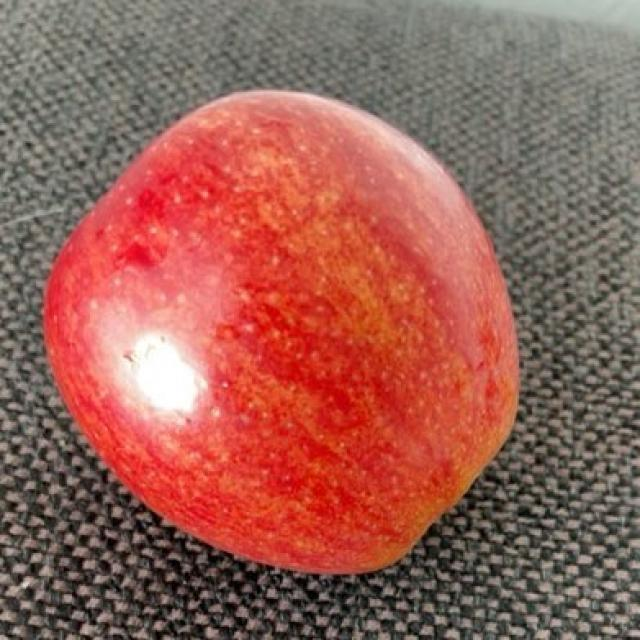apple: (48, 99, 510, 555)
